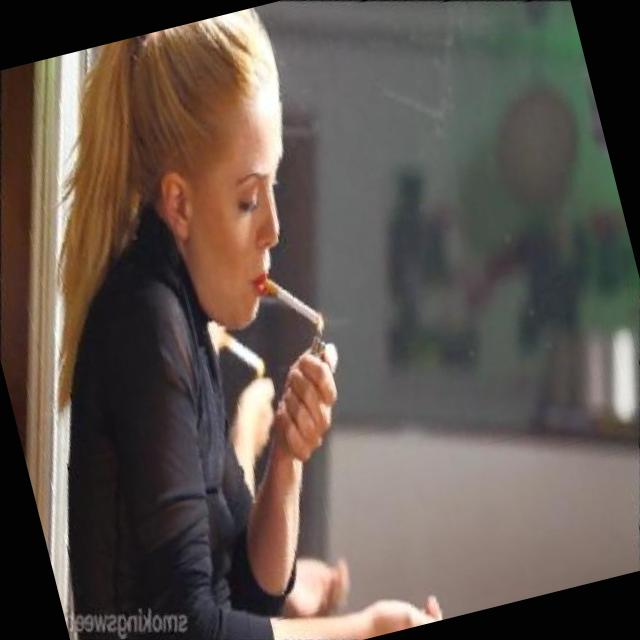cigarette: (249, 258, 334, 340), (210, 320, 275, 384)
